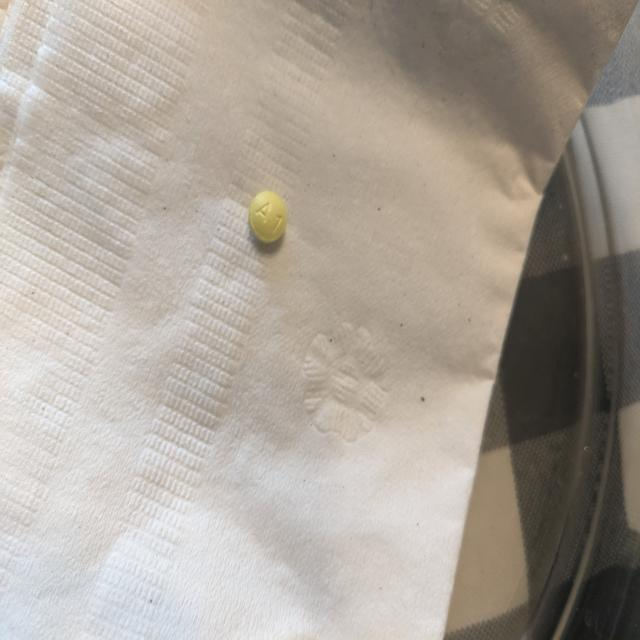non-organic waste: (248, 190, 287, 244)
